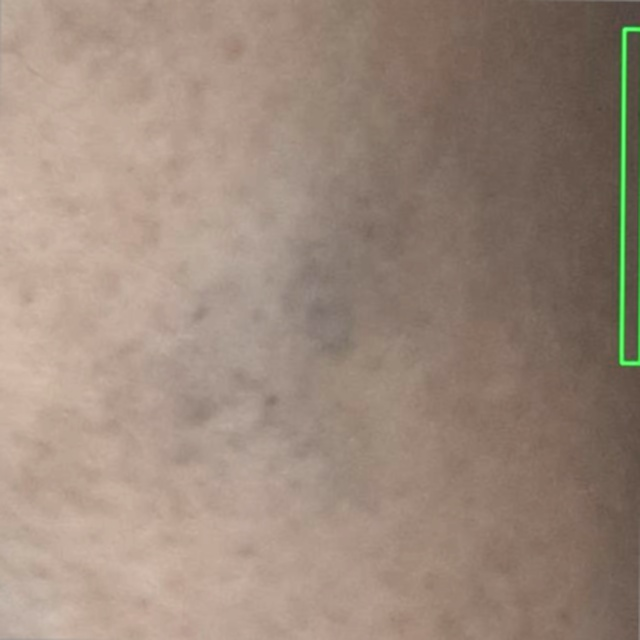Eczema: (621, 29, 639, 363)
